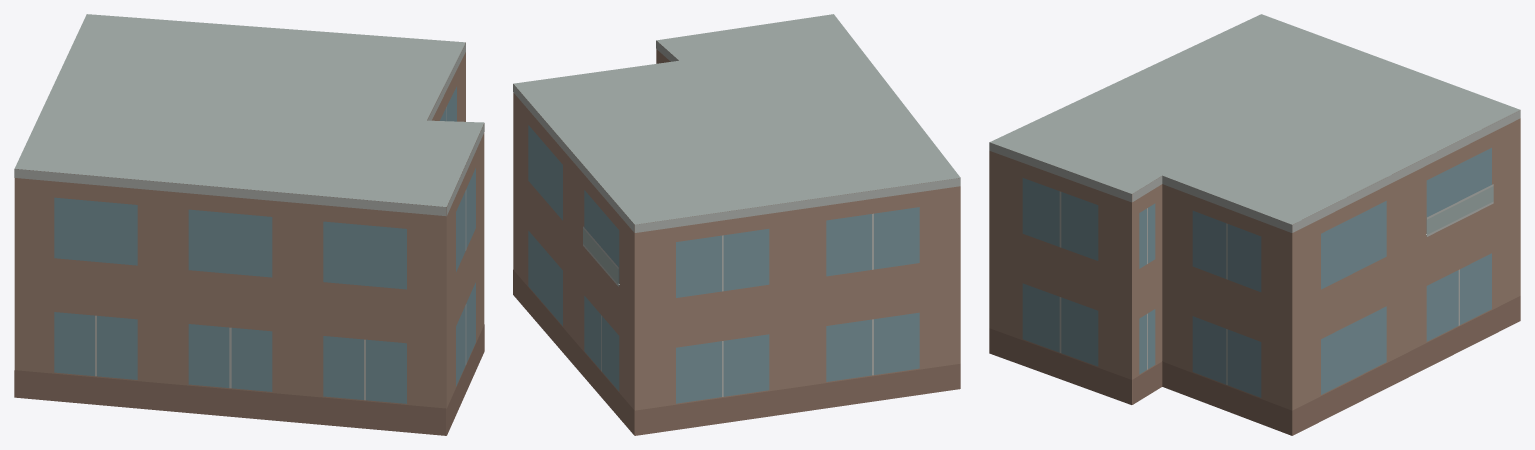
Rendered from survey-upis-32789749.glb.
3 renders of one model, left to right at view 1: azimuth 30°, elevation 25°; view 2: azimuth 150°, elevation 25°; view 3: azimuth 270°, elevation 25°, orthographic. The views are drawn at different scales.
Parts seen in each view (by area): view 1: survey-upis-32789749.tmp; view 2: survey-upis-32789749.tmp; view 3: survey-upis-32789749.tmp.
Part boxes in pixels (x1=…): survey-upis-32789749.tmp: x1=14, y1=14, x2=484, y2=435; survey-upis-32789749.tmp: x1=513, y1=14, x2=960, y2=435; survey-upis-32789749.tmp: x1=989, y1=14, x2=1520, y2=435.
Bounding box in the file's own units: 13.07 × 6.1 × 13.92.
